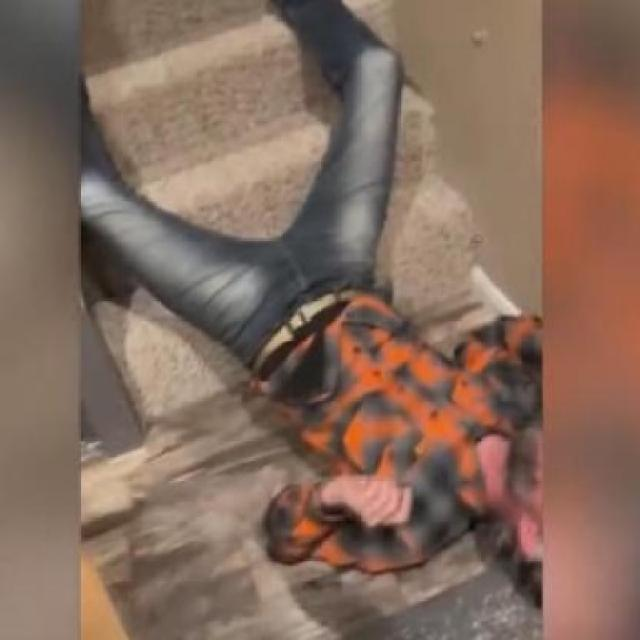fall: (79, 2, 546, 595)
